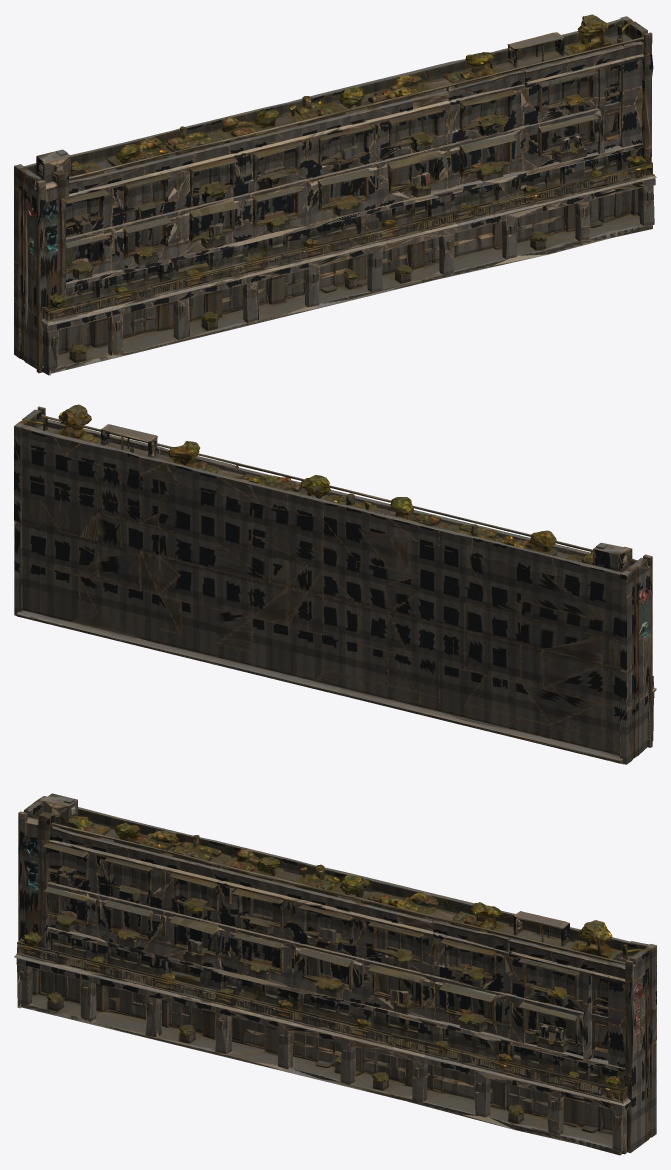
3 renders of one model, top to bottom at view 1: azimuth 30°, elevation 25°; view 2: azimuth 150°, elevation 25°; view 3: azimuth 330°, elevation 25°, orthographic.
Visible parts, largest first — view 1: w02; view 2: w02; view 3: w02.
Boxes of the visible parts, left/top/right/bottom form: w02: left=14, top=14, right=656, bottom=375; w02: left=14, top=404, right=656, bottom=764; w02: left=14, top=793, right=656, bottom=1155.
Bounding box in the file's own units: 85.99 × 28 × 8.47.
Materials: 1 (1 with a texture image).
